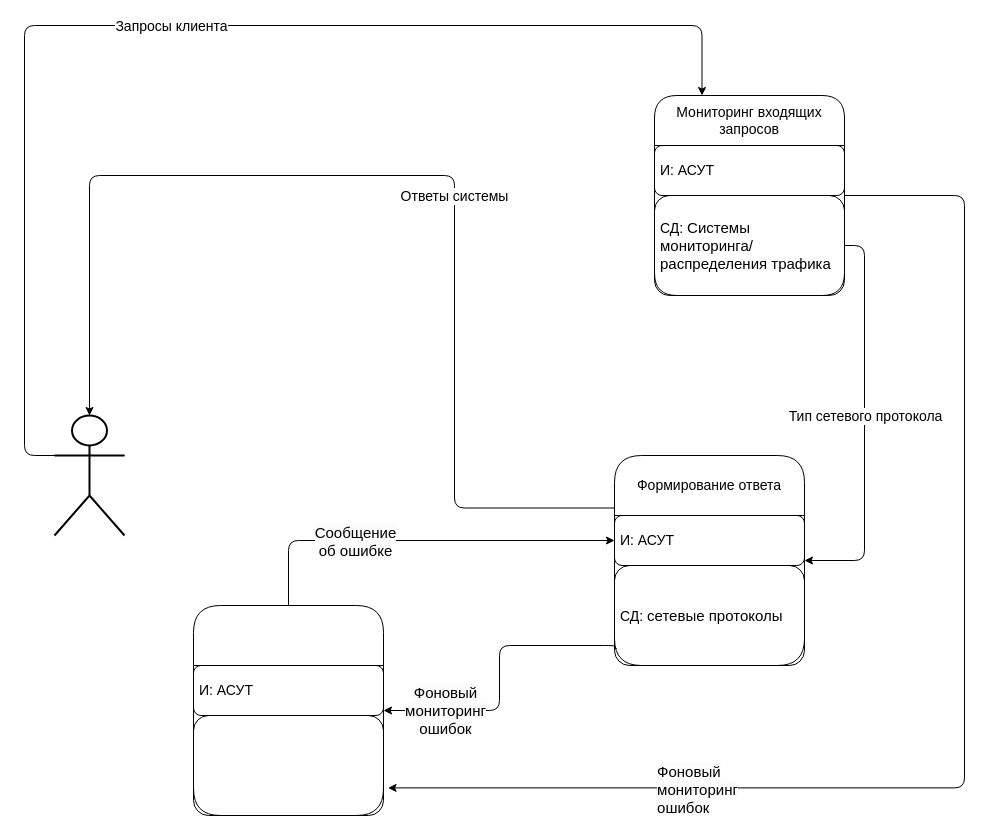
The diagram is 990 pixels wide and 833 high, and some of its shapes have lost their labels. Each missing label, with the box of its shape:
Клиент: (53, 414, 125, 536)
Мониторинг ошибок: (192, 604, 384, 816)
СД: системы мониторинга ошибок: (192, 714, 384, 816)
